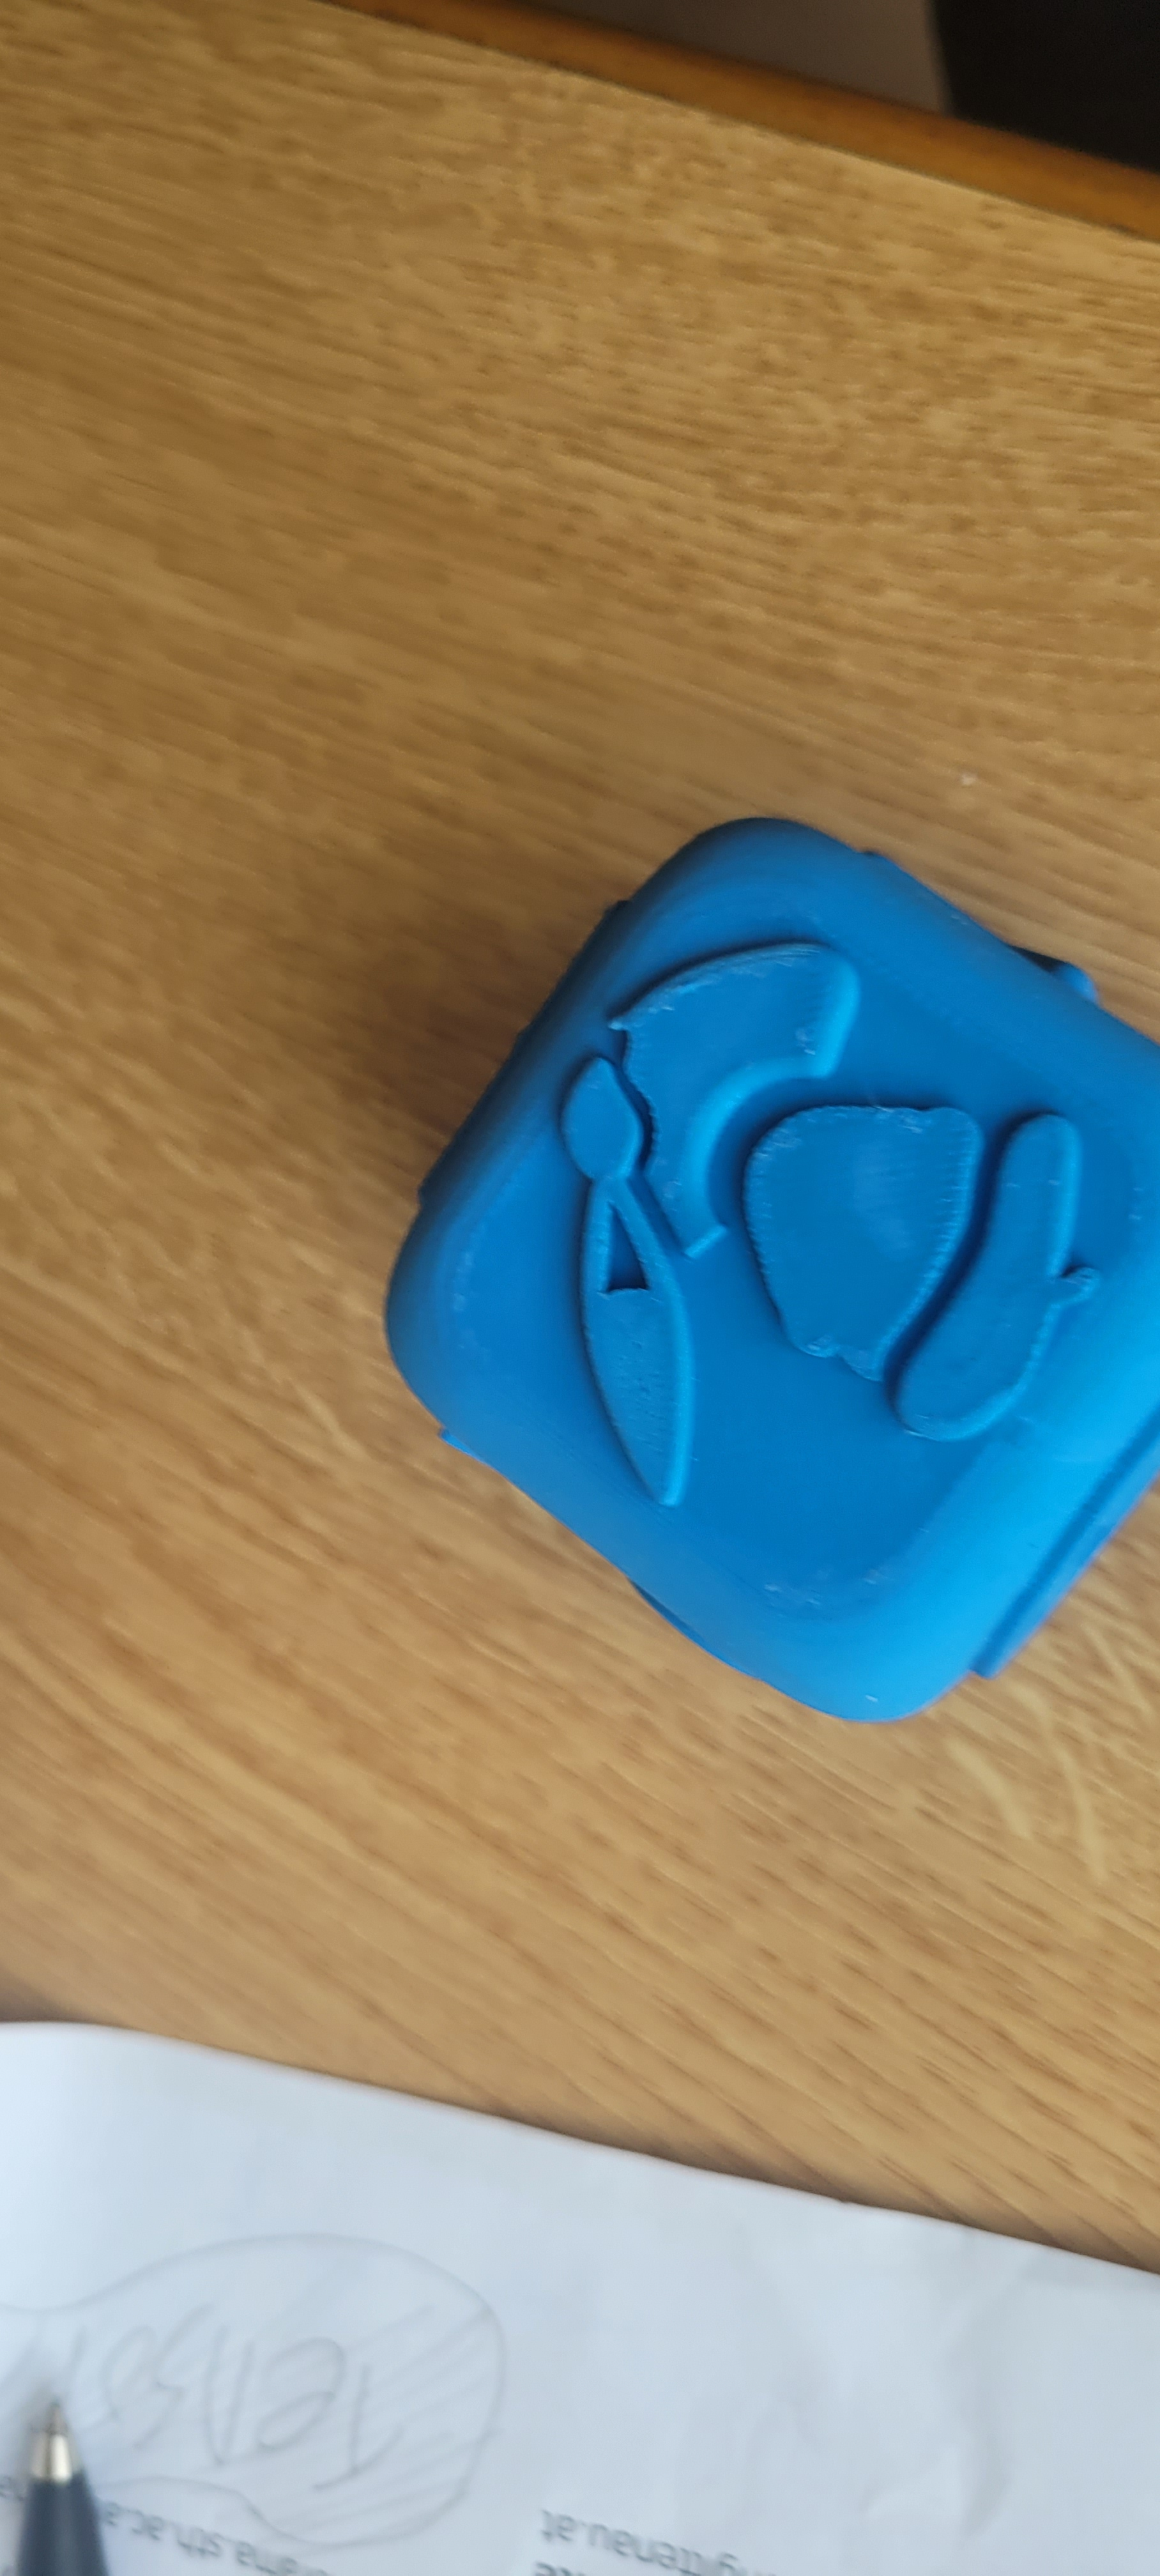Artist_Info: (384, 728, 1160, 1649)
